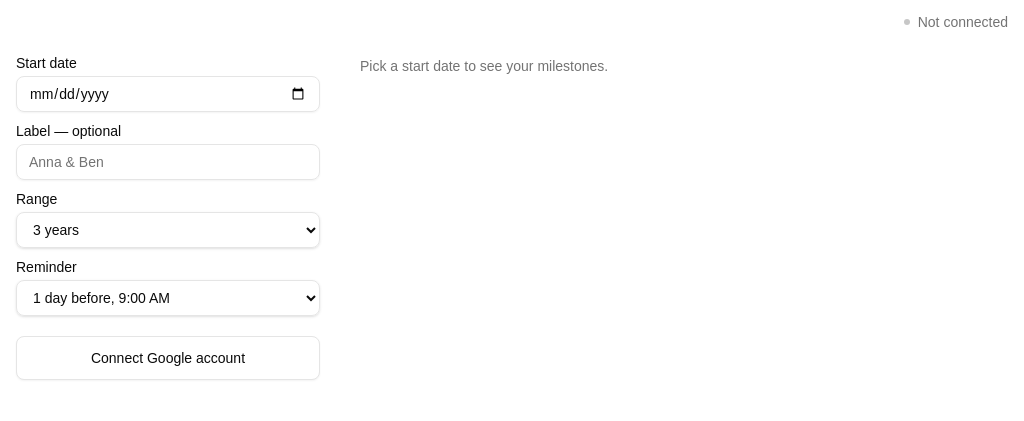
App — errors › names the wait after the popup closes, while ensure() is still running
Click the button "Connect Google account" at coordinates (168, 358), box [16,336,320,380]
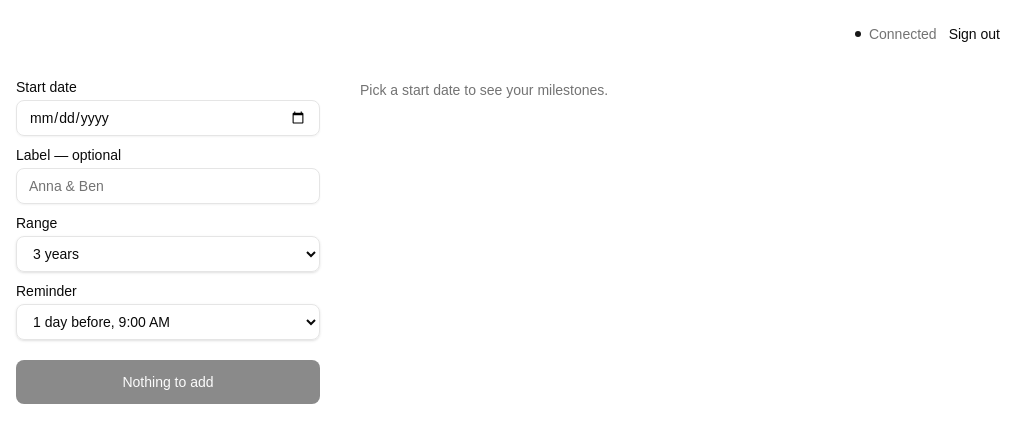
Check: the button named "Connecting…" is disabled, box [16,360,320,404]
